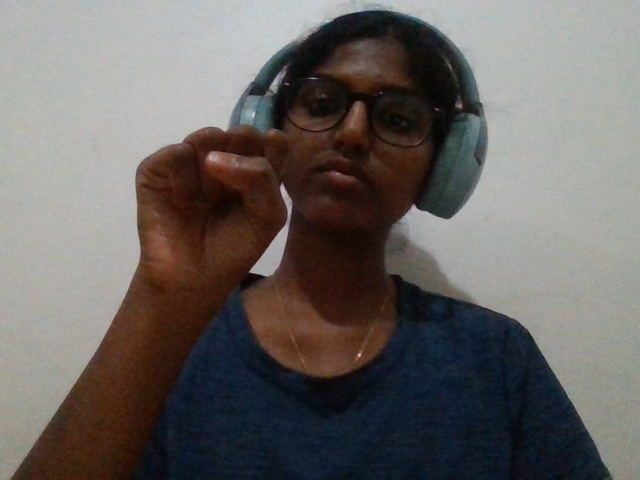Yes: (112, 106, 339, 347)
